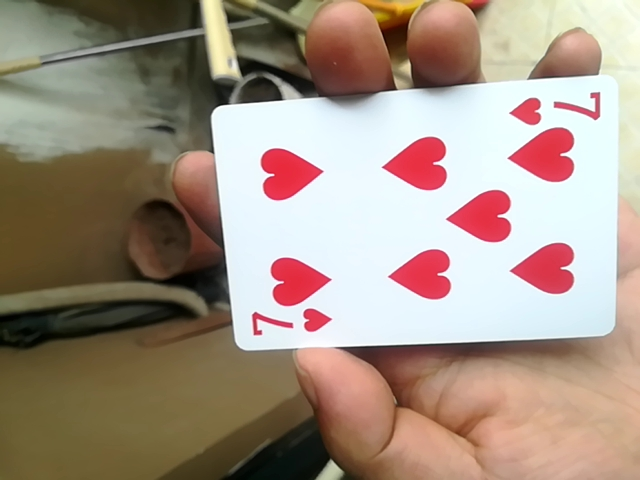hx 7: (204, 72, 622, 357)
